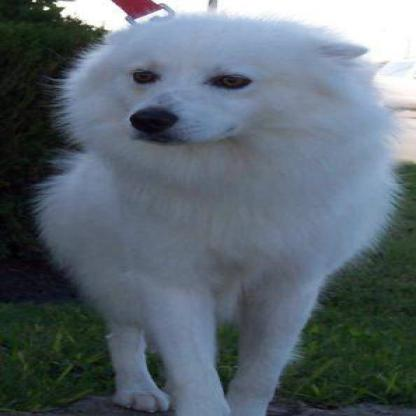dog: (59, 12, 370, 402)
